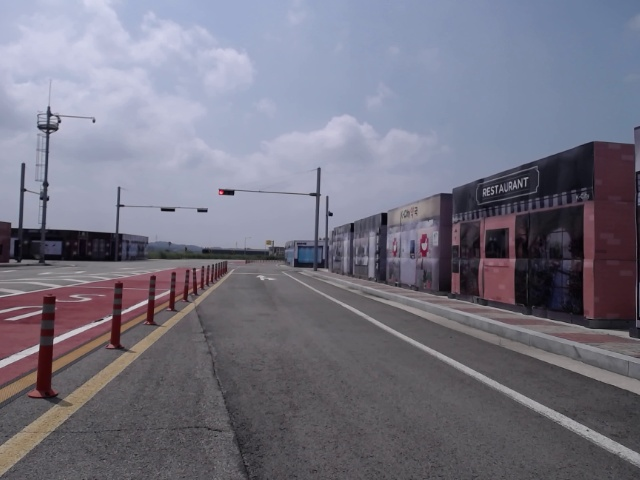red_3: (219, 190, 234, 196)
